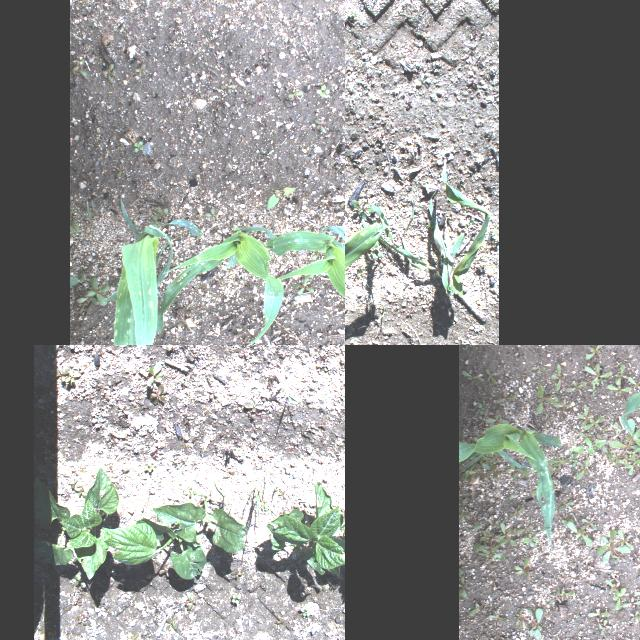crop: (362, 161, 492, 297), (156, 225, 282, 345), (460, 423, 560, 552), (102, 502, 246, 580), (105, 200, 173, 345), (263, 225, 345, 345), (44, 466, 120, 578), (345, 203, 393, 345), (268, 505, 345, 575), (313, 478, 345, 549)
weed: (608, 417, 640, 457), (596, 530, 630, 564), (248, 474, 268, 528), (513, 605, 543, 640), (76, 278, 110, 308), (198, 479, 226, 509), (534, 382, 560, 414), (472, 536, 504, 562), (158, 219, 204, 237), (566, 520, 594, 546), (268, 188, 298, 212), (529, 477, 555, 501), (583, 364, 613, 384), (577, 437, 607, 457), (140, 362, 162, 388), (495, 521, 517, 547), (357, 258, 375, 288), (504, 463, 530, 482), (549, 363, 565, 393), (513, 556, 533, 580), (292, 280, 316, 298), (611, 586, 627, 612), (200, 204, 218, 226), (148, 384, 166, 406), (574, 458, 592, 480), (72, 56, 88, 80), (350, 200, 376, 214), (484, 414, 510, 428), (479, 462, 498, 481), (220, 76, 238, 96), (584, 414, 604, 432), (604, 578, 622, 598), (285, 394, 307, 410), (614, 363, 630, 385), (494, 391, 516, 407), (550, 399, 572, 415), (618, 529, 634, 551), (583, 345, 604, 361), (460, 370, 484, 384), (70, 266, 86, 286), (99, 64, 119, 80), (506, 505, 526, 521), (577, 404, 589, 430), (565, 380, 587, 394), (313, 83, 332, 99), (483, 368, 499, 387), (489, 537, 508, 553), (310, 118, 328, 134), (556, 496, 574, 512), (580, 516, 598, 532), (595, 620, 613, 636), (548, 456, 570, 469), (625, 457, 640, 476), (465, 468, 485, 482), (150, 206, 173, 218), (606, 384, 632, 394), (600, 447, 616, 463), (134, 62, 148, 80), (488, 448, 506, 462), (548, 588, 562, 606), (627, 375, 640, 394), (621, 596, 640, 609), (71, 212, 81, 236), (370, 240, 382, 260), (288, 90, 304, 104), (468, 602, 484, 616), (459, 576, 469, 598), (557, 588, 575, 600), (65, 371, 81, 384), (487, 614, 507, 624), (594, 432, 608, 446), (618, 454, 632, 468), (568, 446, 582, 460), (166, 614, 178, 630), (322, 580, 338, 592), (529, 364, 545, 376), (628, 446, 640, 462), (480, 530, 492, 546), (522, 536, 538, 548), (376, 304, 386, 322), (245, 400, 263, 410), (588, 610, 610, 618), (130, 140, 144, 152), (74, 574, 86, 588), (608, 453, 620, 467), (481, 454, 493, 468), (607, 572, 621, 584), (587, 382, 597, 398), (578, 431, 594, 441), (185, 487, 197, 499), (562, 516, 574, 528), (628, 610, 640, 622), (612, 421, 622, 435), (594, 616, 604, 630), (337, 193, 345, 210), (482, 558, 493, 570), (188, 595, 196, 611), (126, 632, 141, 640), (45, 345, 65, 351), (276, 616, 286, 628), (546, 462, 558, 472), (513, 532, 523, 544), (116, 164, 124, 178), (477, 402, 485, 416), (516, 526, 530, 534), (633, 584, 640, 600), (78, 616, 89, 626), (144, 464, 154, 474), (230, 594, 240, 604), (75, 487, 85, 497), (626, 363, 636, 373), (472, 520, 482, 530), (301, 606, 309, 618), (68, 479, 76, 491), (549, 412, 557, 422), (494, 466, 502, 476), (574, 534, 582, 544), (227, 469, 235, 478), (571, 456, 577, 468), (489, 636, 507, 640), (240, 450, 248, 458), (73, 597, 81, 605), (492, 230, 498, 240), (508, 492, 514, 500), (526, 520, 532, 528), (420, 72, 424, 82), (596, 378, 606, 382), (540, 360, 544, 368)
